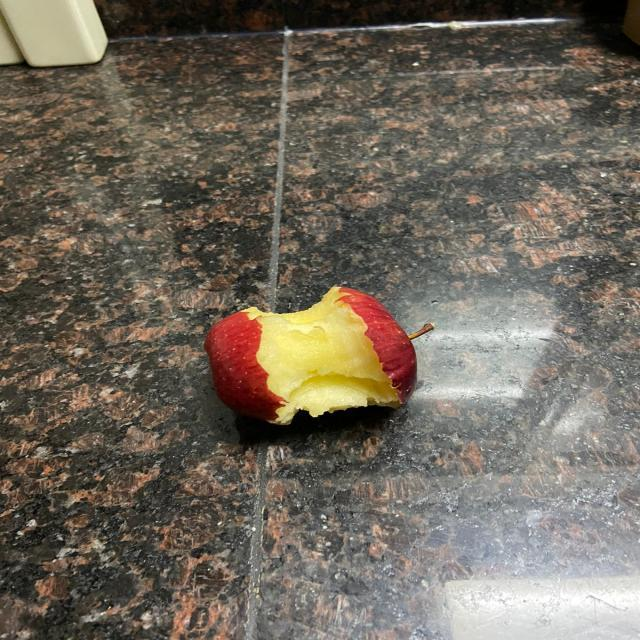apple: (200, 285, 443, 437)
